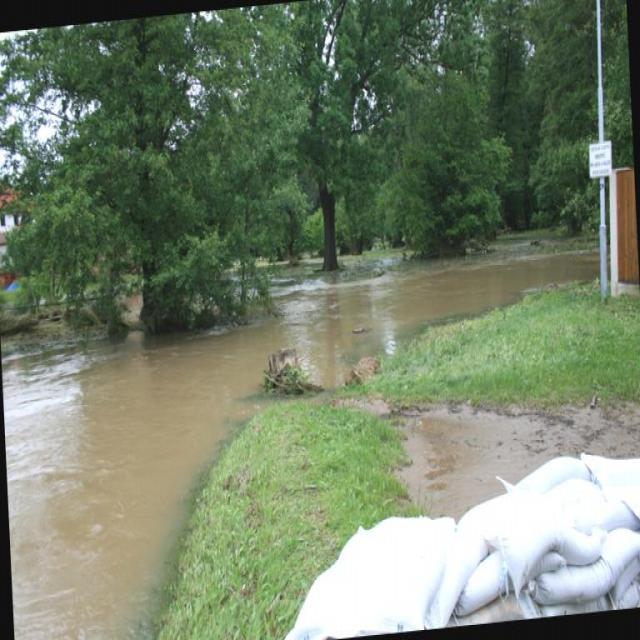flood: (0, 251, 607, 531)
